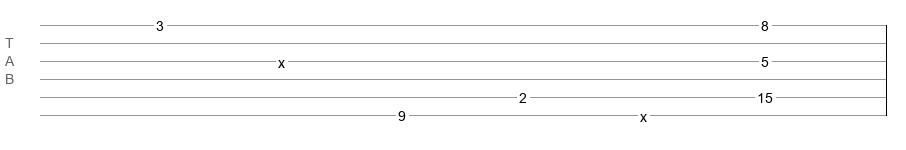15: (757, 90, 773, 100)
2: (519, 90, 527, 100)
3: (156, 18, 164, 28)
5: (761, 54, 769, 64)
8: (761, 18, 769, 28)
9: (398, 108, 406, 118)
x: (278, 55, 285, 63), (640, 109, 647, 117)
